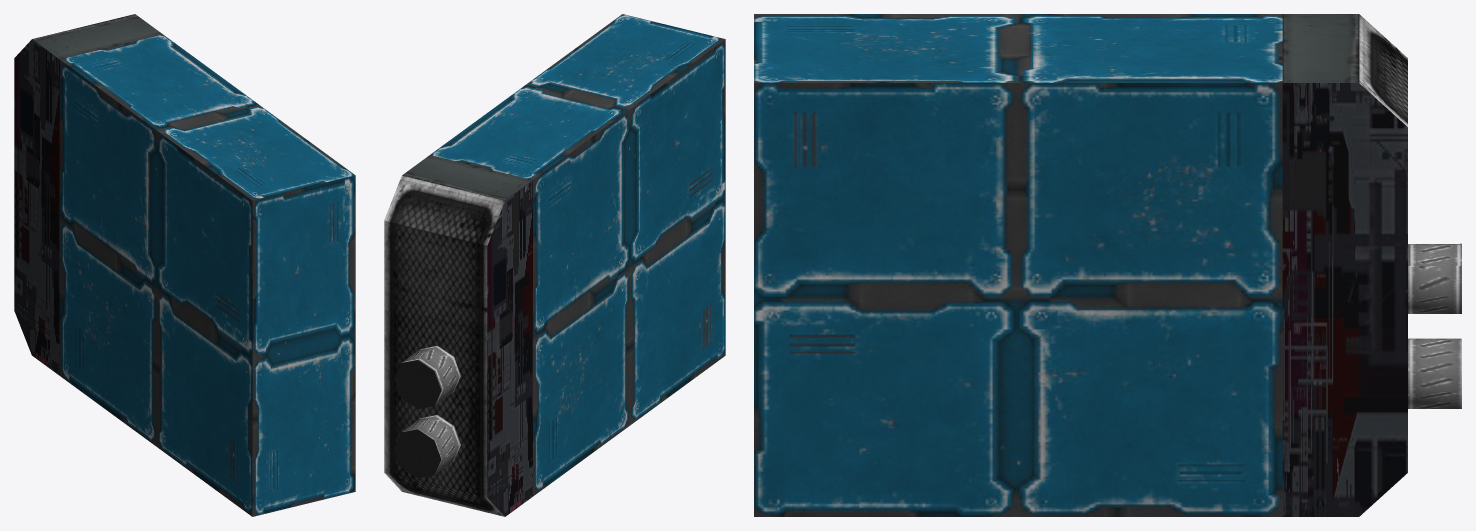
The model's file is Generator_02.fbx.
The picture shows the model from 3 angles, left to right: view 1: azimuth 30°, elevation 25°; view 2: azimuth 150°, elevation 25°; view 3: azimuth 270°, elevation 25°; orthographic projection. The views are drawn at different scales.
Parts seen in each view (by area): view 1: Generator_02; view 2: Generator_02; view 3: Generator_02.
Part boxes in pixels (x1,y1,x2,y2): Generator_02: (14,14,355,516); Generator_02: (384,14,725,516); Generator_02: (754,14,1461,516).
Size of the model in its own units: 20.34 by 59.51 by 87.96.
